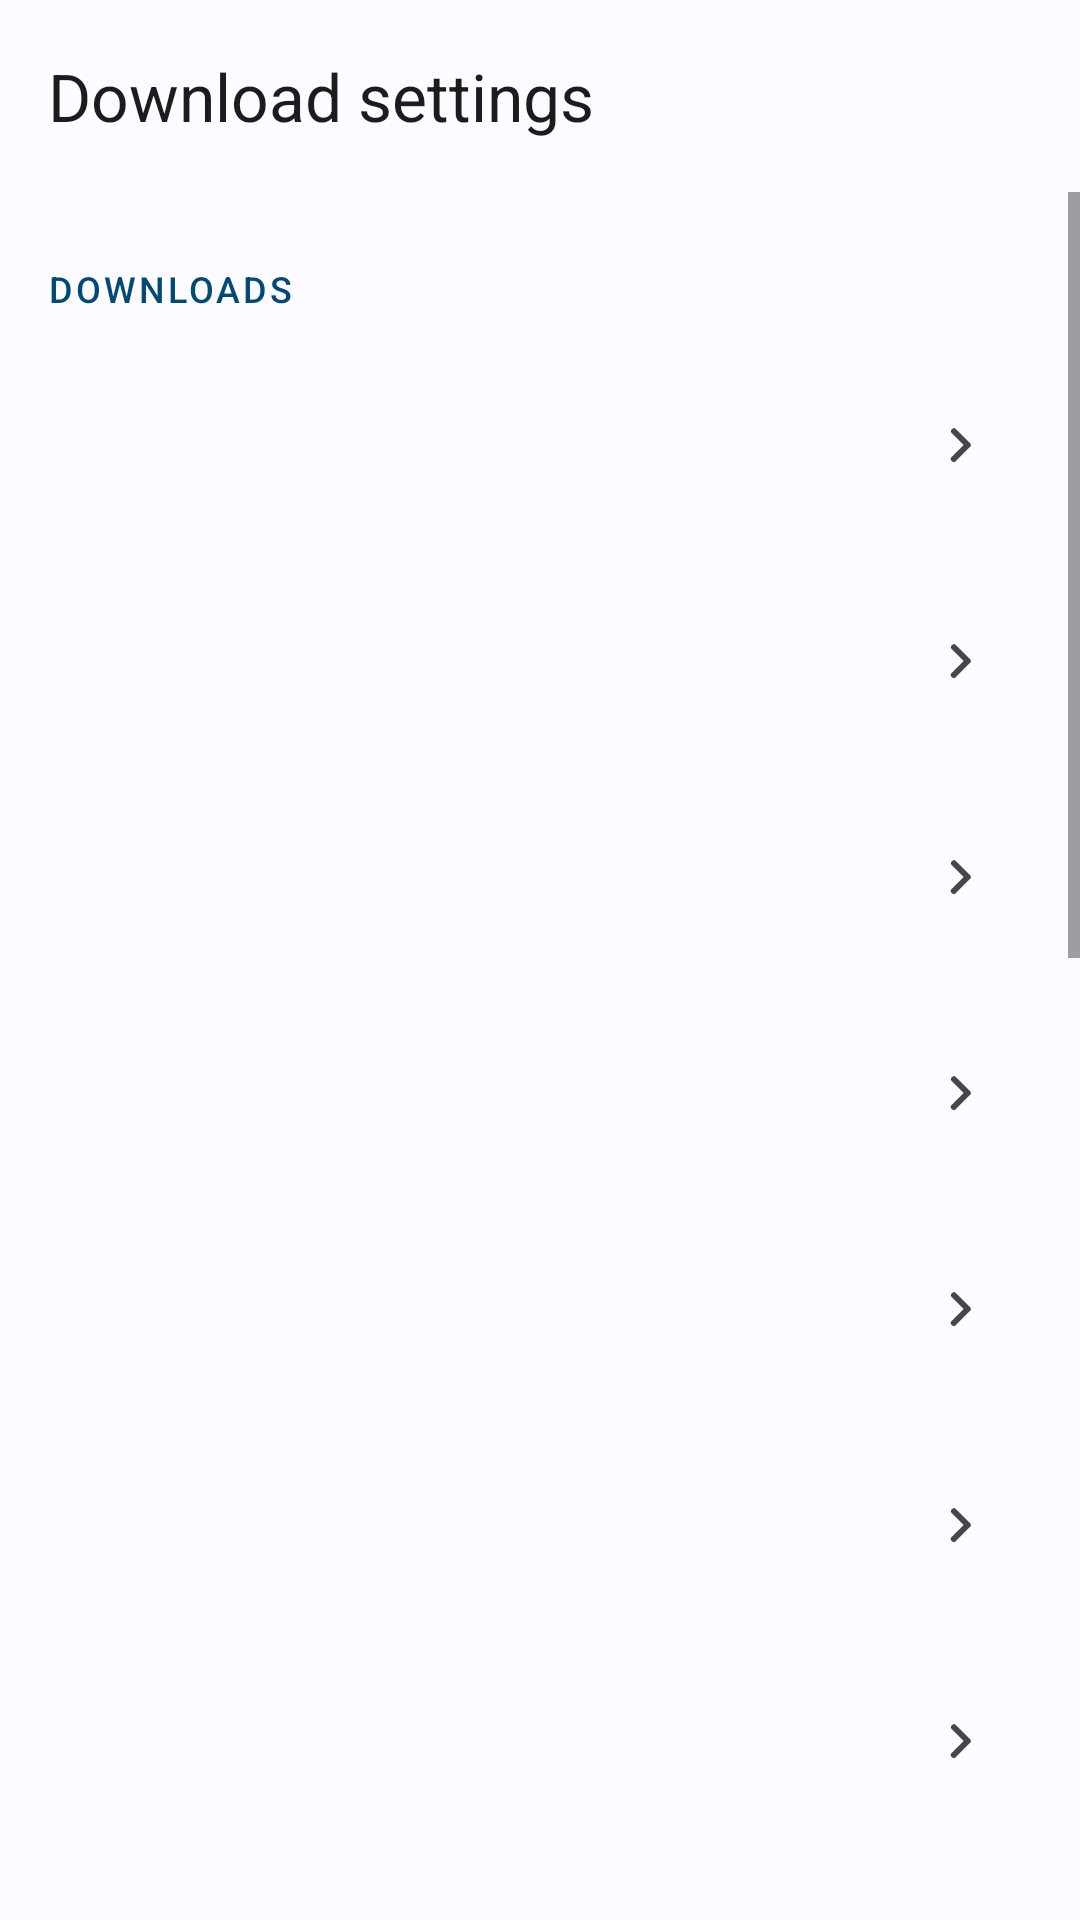

Where icons sit on this 1080×1920 app screen, as (x1, y1, x2, y2):
chevron right: (950, 428, 971, 462), (950, 644, 971, 678), (950, 860, 971, 894), (950, 1076, 971, 1110), (950, 1292, 971, 1326), (950, 1508, 971, 1542), (950, 1724, 971, 1758)
